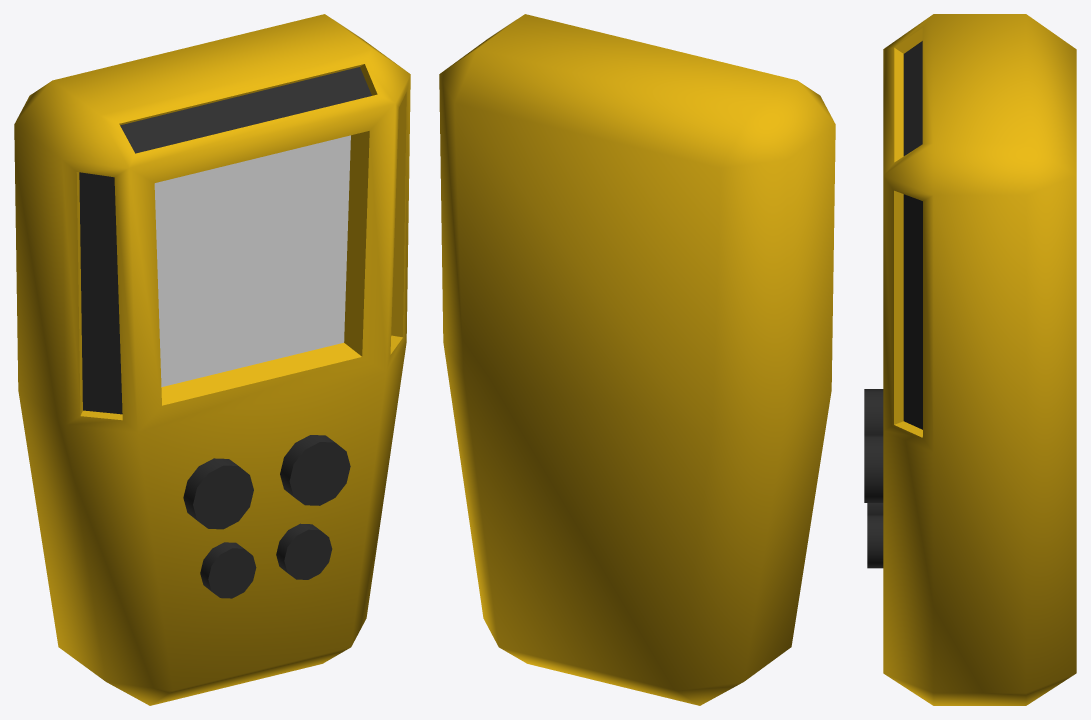
File: Detector de Gas.fbx
3 views of the same model, side by side, from view 1: azimuth 30°, elevation 25°; view 2: azimuth 150°, elevation 25°; view 3: azimuth 270°, elevation 25° (orthographic). The views are drawn at different scales.
Parts seen in each view (by area): view 1: Detector de Gas; view 2: Detector de Gas; view 3: Detector de Gas.
Boxes of the visible parts, bbox=[...] form: Detector de Gas: bbox=[14, 14, 410, 705]; Detector de Gas: bbox=[439, 14, 835, 705]; Detector de Gas: bbox=[864, 14, 1076, 705].
Bounding box in the file's own units: 13.67 × 22.58 × 7.4.
